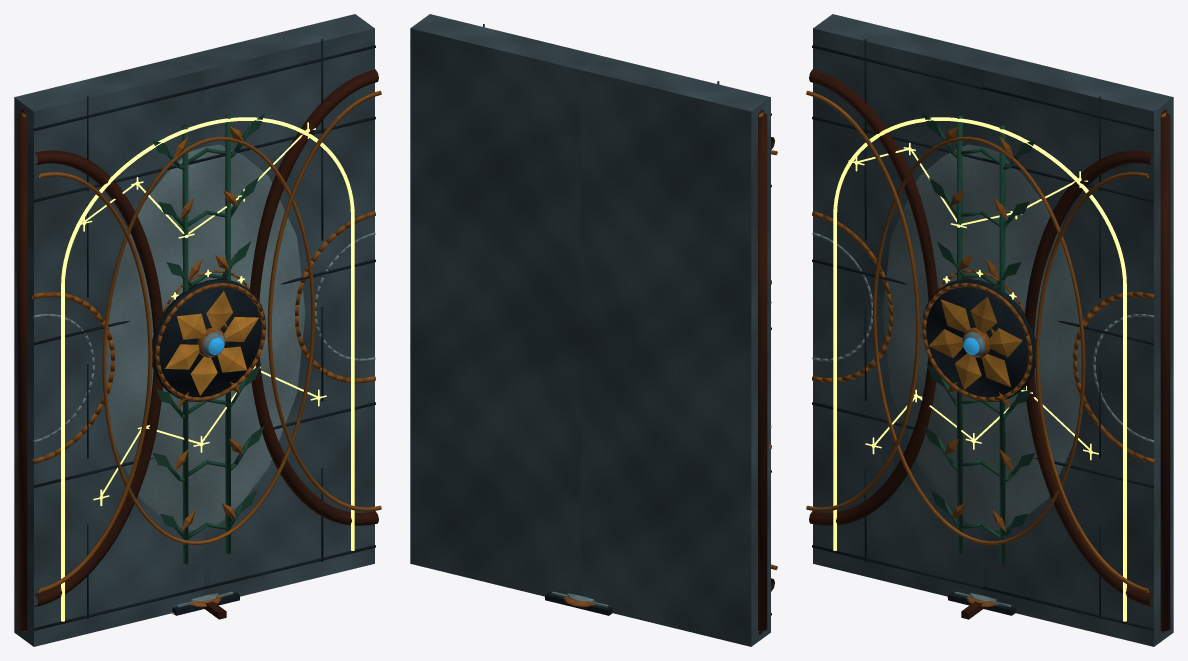
The model's file is archive-kit.glb.
3 views of the same model, side by side, from view 1: azimuth 30°, elevation 25°; view 2: azimuth 150°, elevation 25°; view 3: azimuth 330°, elevation 25° (orthographic).
Visible parts, largest first — view 1: ArchiveInkRight_Visual, ArchiveInkLeft_Visual, ArchiveMirrorSilver_Visual, ArchiveMirrorRight_Visual, ArchiveMirrorLeft_Visual, ArchiveWindRotor_Visual, ArchiveInkTrace_Visual, ArchiveWindRight_Visual, ArchiveWindLeft_Visual; view 2: ArchiveInkRight_Visual, ArchiveInkLeft_Visual, ArchiveMirrorRight_Visual, InkRubbing_Visual; view 3: ArchiveInkLeft_Visual, ArchiveInkRight_Visual, ArchiveMirrorSilver_Visual, ArchiveMirrorLeft_Visual, ArchiveMirrorRight_Visual, ArchiveWindRotor_Visual, ArchiveInkTrace_Visual, ArchiveWindLeft_Visual, ArchiveWindRight_Visual.
Part boxes in pixels (x1,y1,x2,y2): ArchiveInkRight_Visual: [14, 55, 205, 646]; ArchiveInkLeft_Visual: [185, 14, 375, 596]; ArchiveMirrorSilver_Visual: [102, 136, 314, 544]; ArchiveMirrorRight_Visual: [17, 109, 207, 631]; ArchiveMirrorLeft_Visual: [206, 69, 381, 553]; ArchiveWindRotor_Visual: [152, 279, 265, 401]; ArchiveInkTrace_Visual: [61, 117, 354, 621]; ArchiveWindRight_Visual: [21, 112, 114, 632]; ArchiveWindLeft_Visual: [295, 211, 375, 383]; ArchiveInkRight_Visual: [580, 55, 771, 646]; ArchiveInkLeft_Visual: [410, 14, 599, 596]; ArchiveMirrorRight_Visual: [758, 109, 777, 634]; InkRubbing_Visual: [545, 591, 612, 615]; ArchiveInkLeft_Visual: [982, 55, 1173, 646]; ArchiveInkRight_Visual: [812, 14, 1002, 596]; ArchiveMirrorSilver_Visual: [873, 136, 1085, 544]; ArchiveMirrorLeft_Visual: [980, 109, 1170, 633]; ArchiveMirrorRight_Visual: [806, 69, 981, 553]; ArchiveWindRotor_Visual: [922, 279, 1035, 401]; ArchiveInkTrace_Visual: [833, 117, 1126, 621]; ArchiveWindLeft_Visual: [1073, 112, 1166, 632]; ArchiveWindRight_Visual: [812, 211, 892, 383].
Bounding box in the file's own units: 1.65 × 2.41 × 0.37.
Materials: 10 (10 with a texture image).
